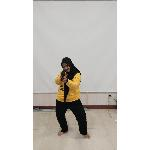Senapan: (57, 64, 69, 88)
